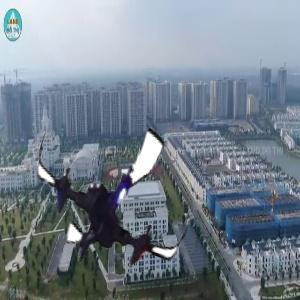drone: (25, 105, 202, 282)
